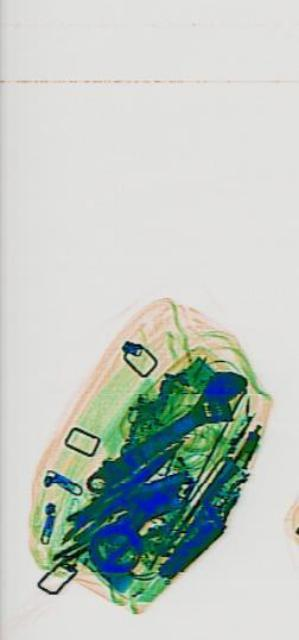Wrench: (80, 350, 251, 510)
